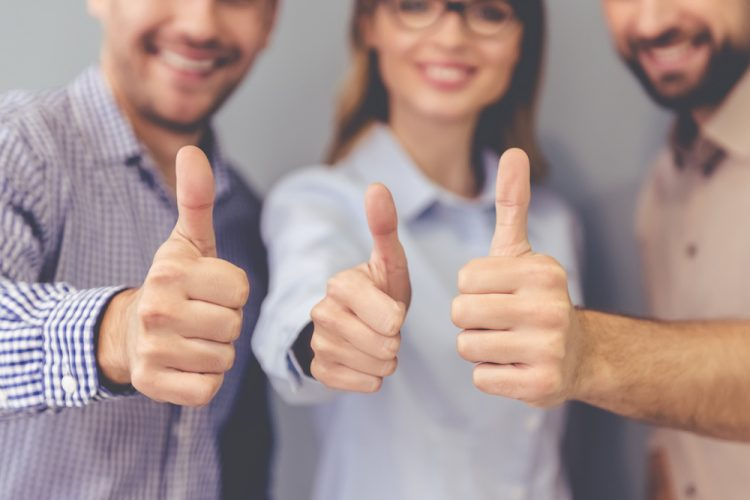face: (84, 1, 275, 124), (373, 1, 526, 119), (599, 1, 750, 110)
hand: (451, 147, 574, 411), (131, 146, 251, 409), (308, 176, 413, 390)
